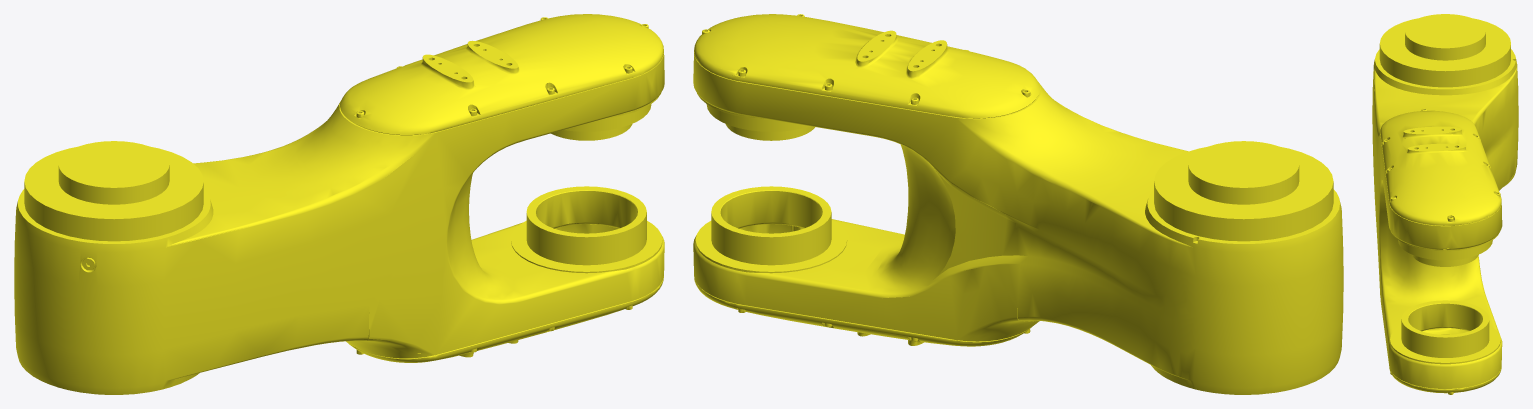
The picture shows the model from 3 angles, left to right: view 1: azimuth 30°, elevation 25°; view 2: azimuth 150°, elevation 25°; view 3: azimuth 270°, elevation 25°; orthographic projection. The views are drawn at different scales.
Parts seen in each view (by area): view 1: /Link2/Link2-mesh/0; view 2: /Link2/Link2-mesh/0; view 3: /Link2/Link2-mesh/0.
Part boxes in pixels (x1,y1,x2,y2): /Link2/Link2-mesh/0: [14, 14, 664, 394]; /Link2/Link2-mesh/0: [693, 14, 1343, 394]; /Link2/Link2-mesh/0: [1372, 14, 1518, 394].
Bounding box in the file's own units: 0.7826 × 0.328 × 0.2161.
